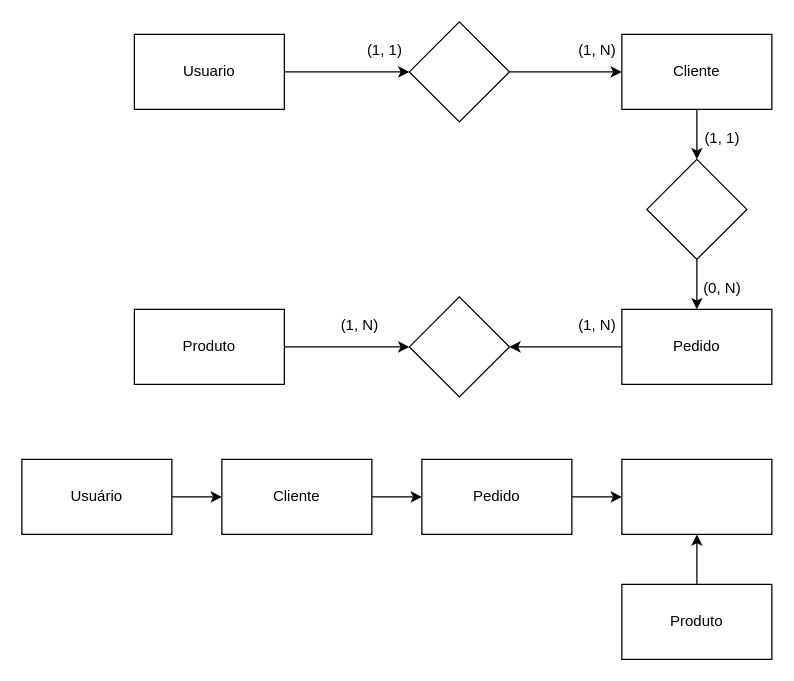
The diagram is 794 pixels wide and 681 high, and some of its shapes have lost their labels. The centre of each missing label's shape, as x and y in pixels:
"Cadastra" belongs at (x=458, y=71).
"Contem" belongs at (x=458, y=346).
"Efetua" belongs at (x=696, y=208).
"ItemPedido" belongs at (x=696, y=496).
